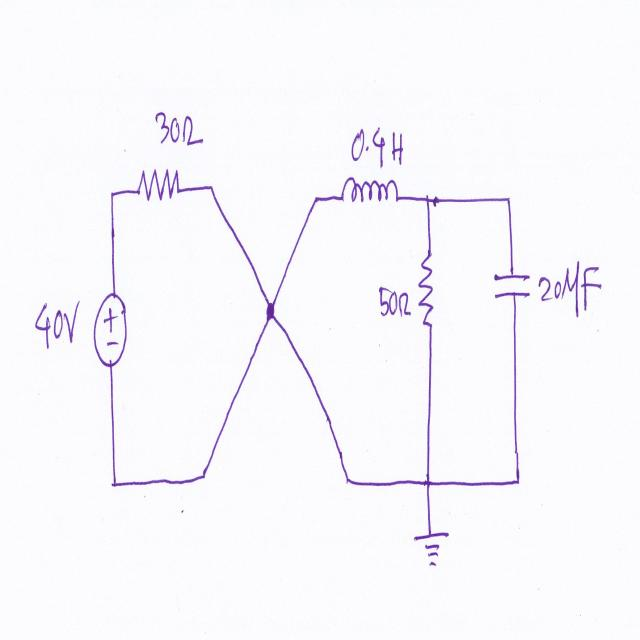capacitor: (491, 264, 532, 314)
ground: (406, 522, 451, 574)
inductor: (334, 174, 407, 219)
resistor: (133, 153, 184, 221), (416, 239, 438, 344)
voltage_source: (91, 280, 129, 374)
